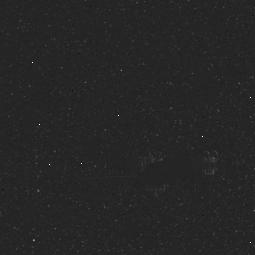xmm_newton: (114, 127, 218, 202)
